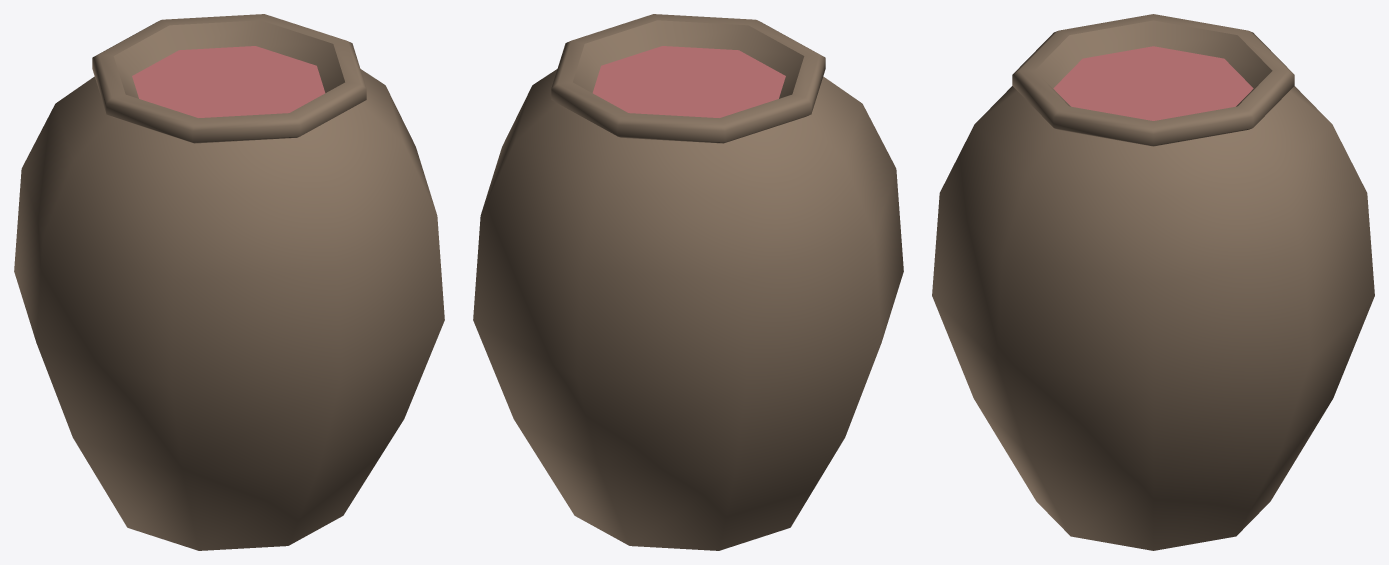
File: SM_Ceramic_Pot_01.fbx
3 renders of one model, left to right at view 1: azimuth 30°, elevation 25°; view 2: azimuth 150°, elevation 25°; view 3: azimuth 270°, elevation 25°, orthographic.
Parts seen in each view (by area): view 1: Ceramic_Pot_01; view 2: Ceramic_Pot_01; view 3: Ceramic_Pot_01.
Boxes of the visible parts, x1,y1,x2,y2 form: Ceramic_Pot_01: (14,14,444,550); Ceramic_Pot_01: (473,14,903,550); Ceramic_Pot_01: (932,14,1374,550).
Bounding box in the file's own units: 30.8 × 33.04 × 30.8.
